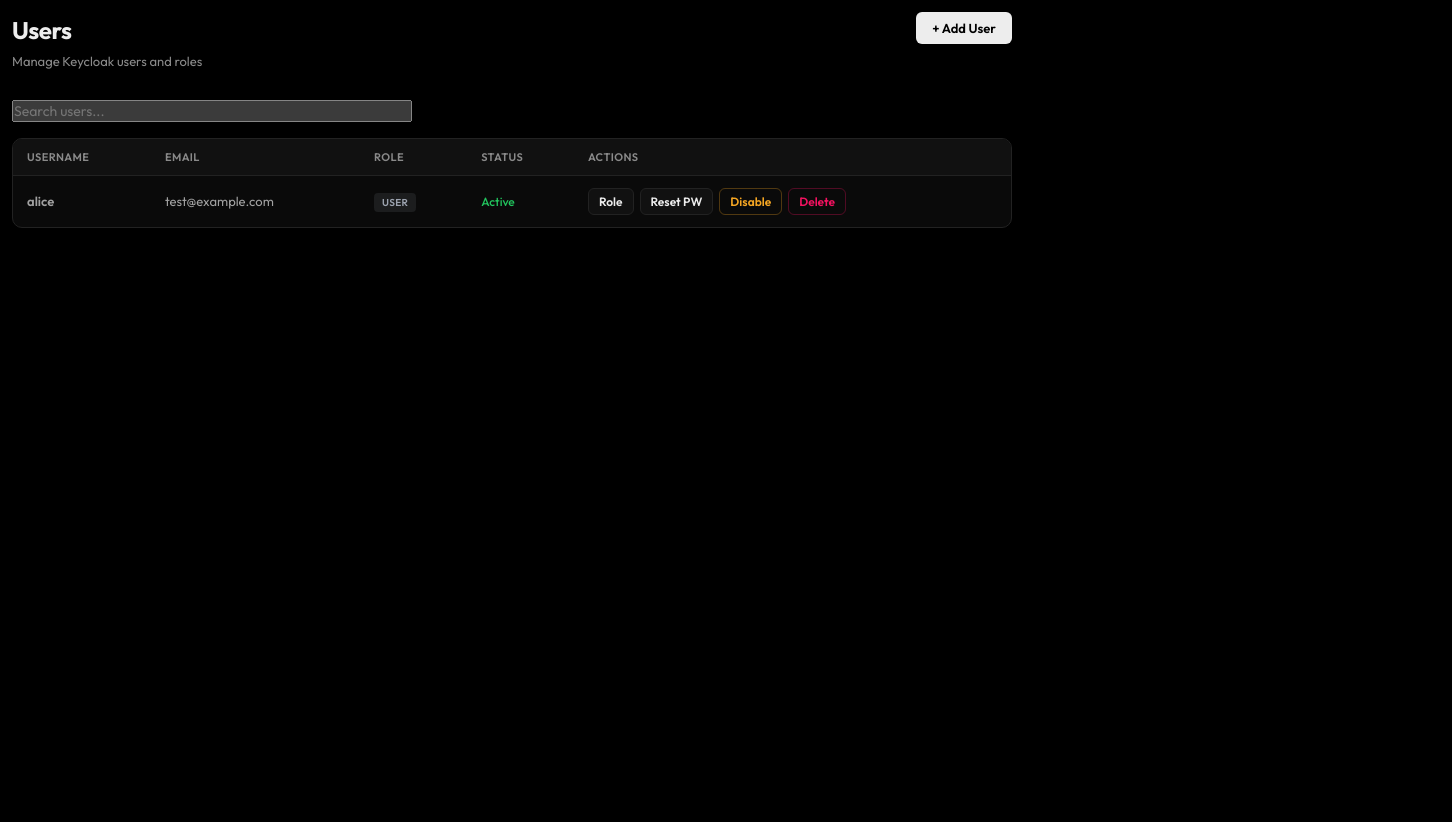
Users page flows › delete error path shows toast with API detail
The image size is (1452, 822).
Expected: the text "alice" is shown, [13,176,151,227]
Click the button with aria-label "Delete user alice": (817, 202) [788,188,846,215]
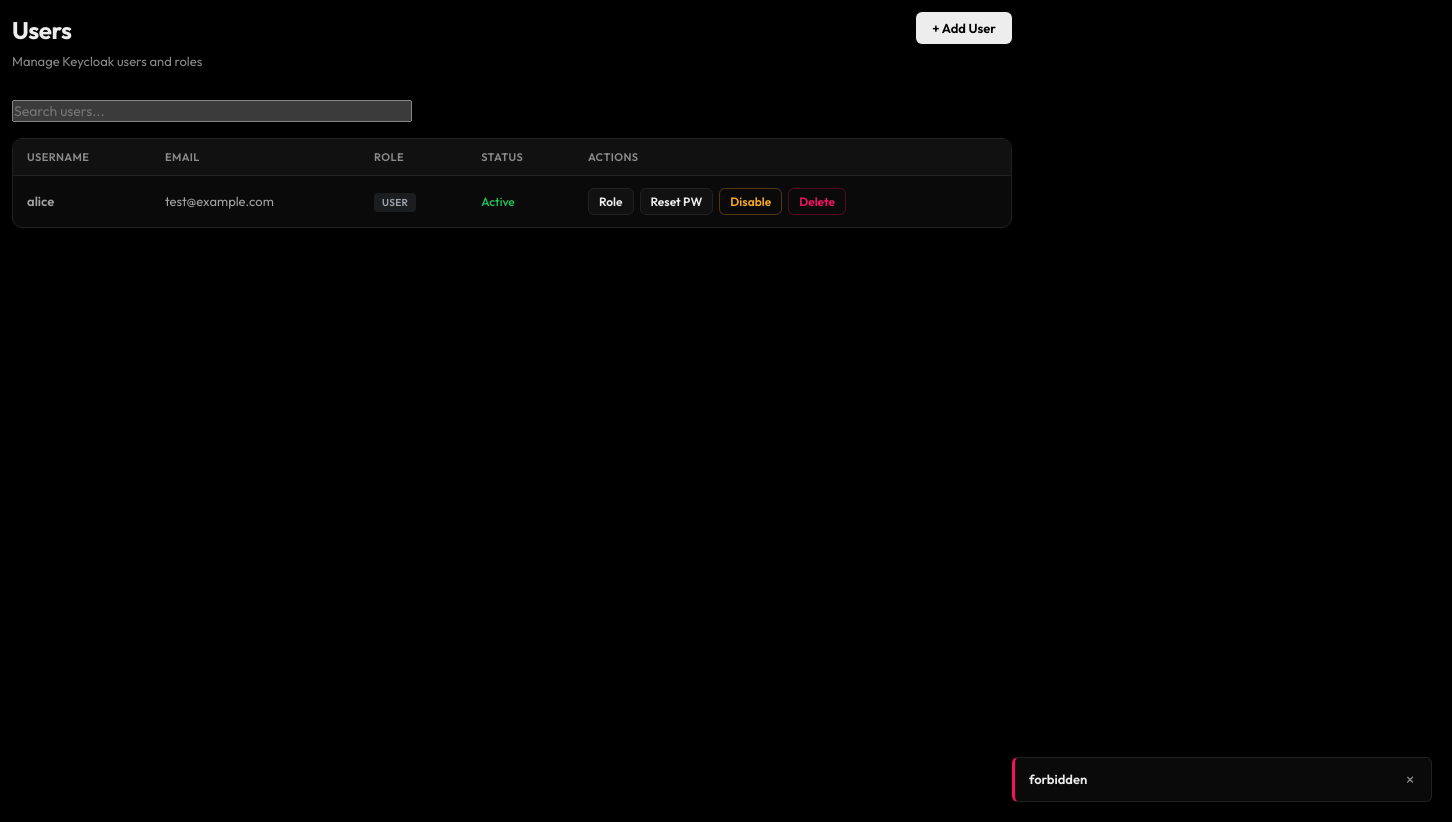
Now the text "forbidden" is shown, box [1029,770,1087,786]
